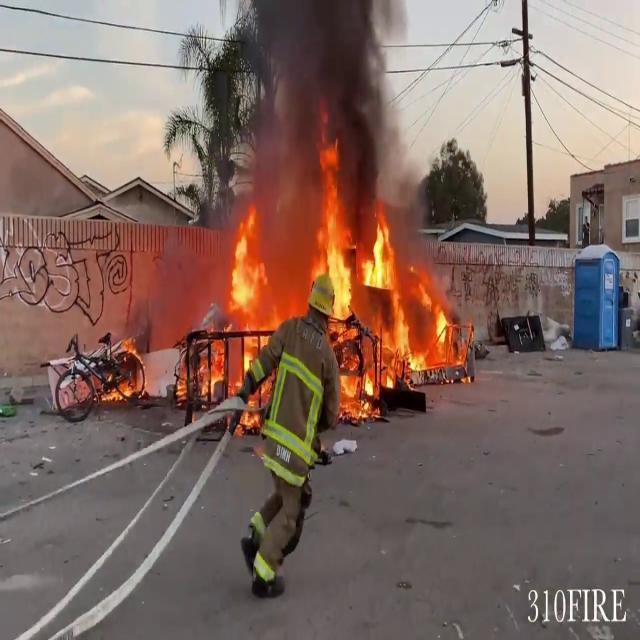Fire: (219, 184, 461, 414)
Smoke: (230, 0, 426, 220)
